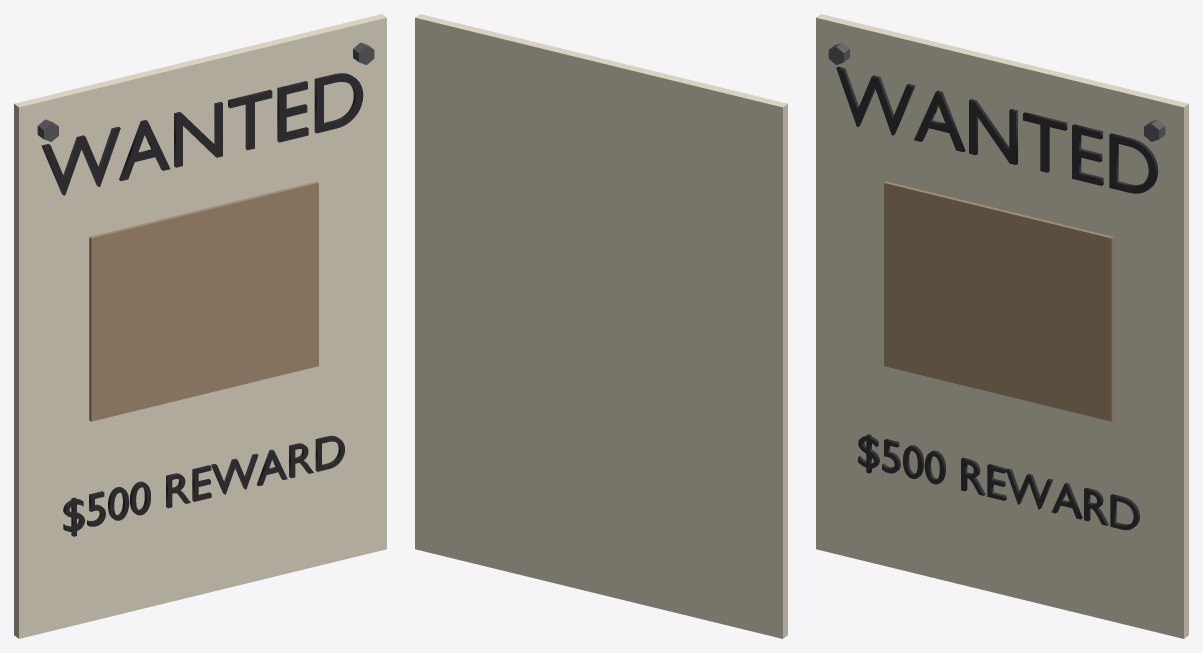
The model's file is SM_Wanted_Poster.glb.
The picture shows the model from 3 angles, left to right: view 1: azimuth 30°, elevation 25°; view 2: azimuth 150°, elevation 25°; view 3: azimuth 330°, elevation 25°; orthographic projection.
Parts seen in each view (by area): view 1: SM_Wanted_Poster; view 2: SM_Wanted_Poster; view 3: SM_Wanted_Poster.
Part boxes in pixels (x1,y1,x2,y2): SM_Wanted_Poster: (14, 14, 386, 638); SM_Wanted_Poster: (415, 14, 787, 638); SM_Wanted_Poster: (816, 14, 1188, 638).
Size of the model in its own units: 0.42 by 0.58 by 0.022.
